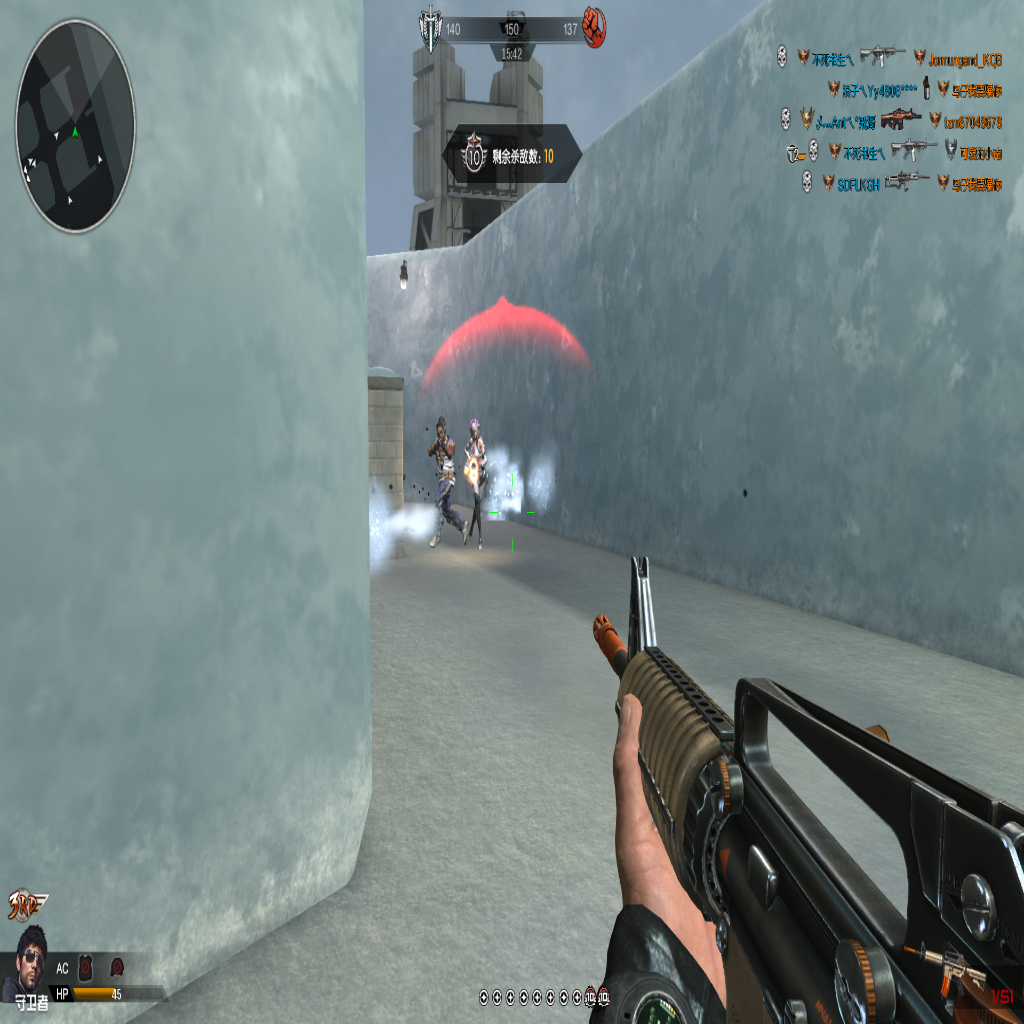tt: (429, 413, 462, 544), (462, 422, 487, 546)
